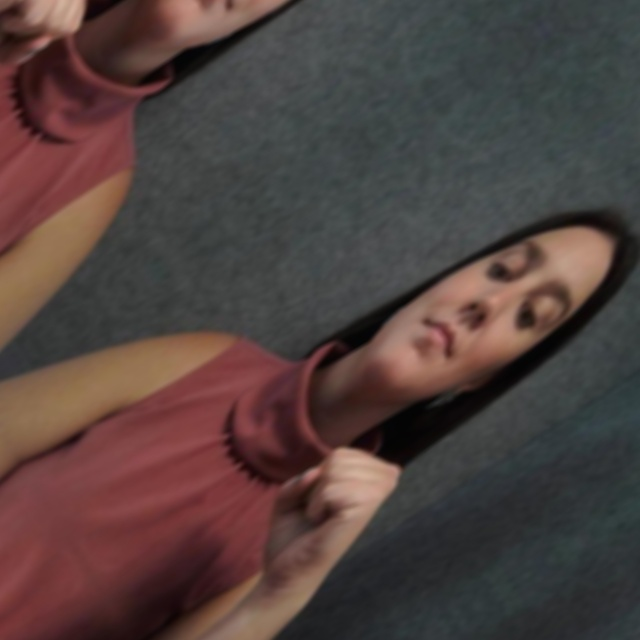Rock: (0, 0, 151, 169)
